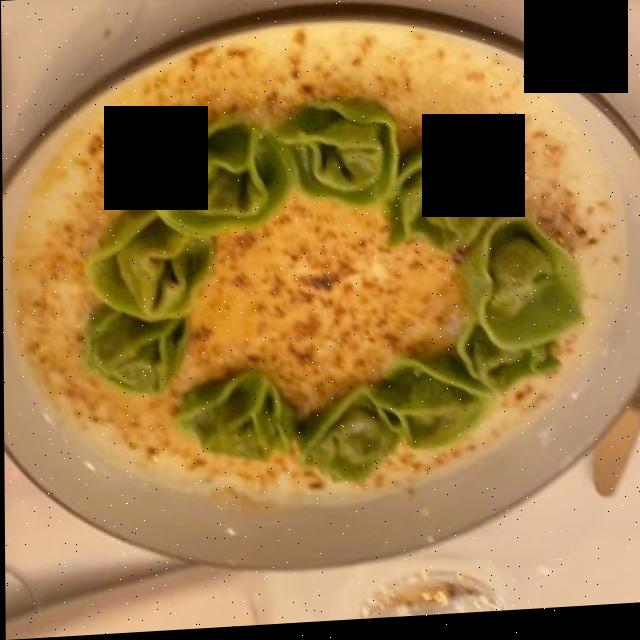bolognaise-sauce: (31, 61, 585, 516)
pasta-tortelloni-stuffing: (87, 103, 588, 486)
